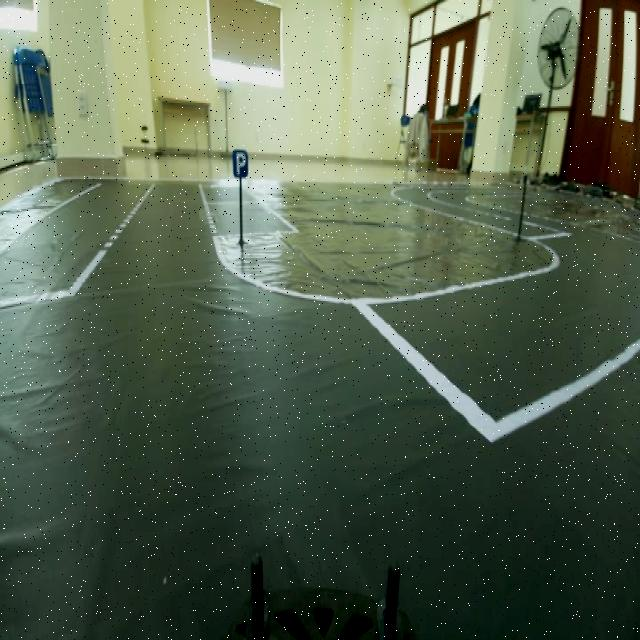parking: (227, 144, 250, 173)
